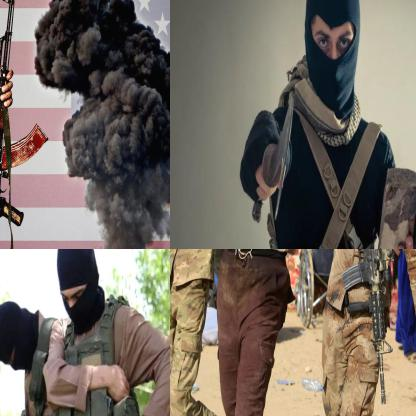knife: (252, 94, 297, 223)
rifle: (0, 0, 50, 248), (339, 249, 395, 404)
